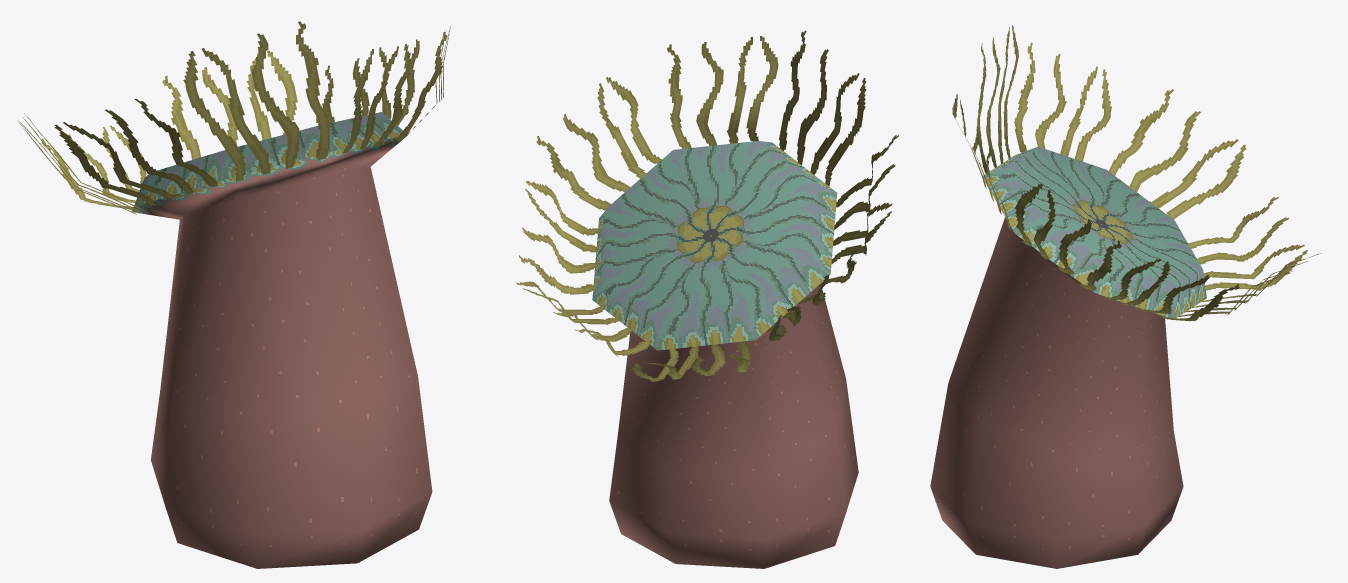
The model's file is 0495_Sea_Anemone.glb.
The picture shows the model from 3 angles, left to right: view 1: azimuth 30°, elevation 25°; view 2: azimuth 150°, elevation 25°; view 3: azimuth 270°, elevation 25°; orthographic projection. The views are drawn at different scales.
Parts seen in each view (by area): view 1: part_0; view 2: part_0; view 3: part_0.
Boxes of the visible parts, bbox=[...] form: part_0: bbox=[18, 21, 450, 568]; part_0: bbox=[516, 30, 898, 568]; part_0: bbox=[930, 25, 1321, 568].
Size of the model in its own units: 0.2199 by 0.2788 by 0.2106.
Materials: 1 (1 with a texture image).
